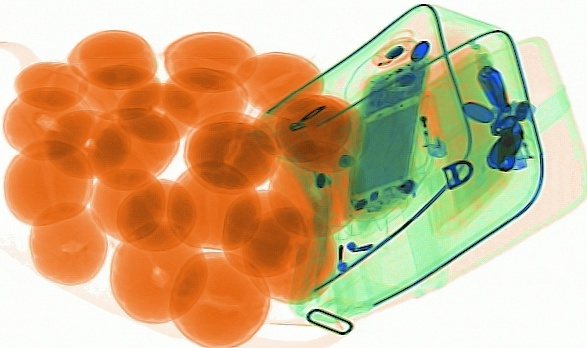lighter: (409, 78, 448, 158)
